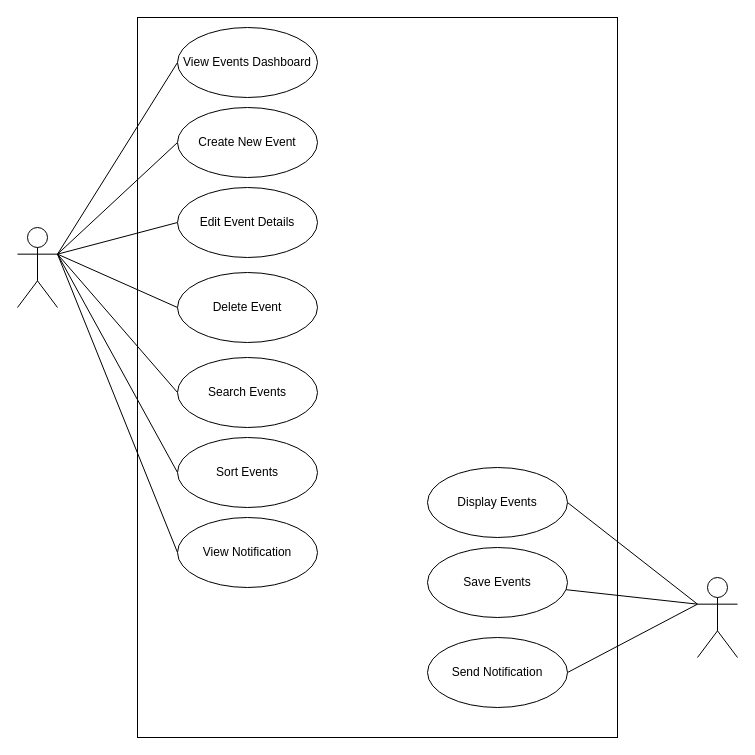
Image size: 755x755. Some labels were removed from this diagram. Each missing label, with the box of its shape:
System: (696, 576, 738, 658)
User: (16, 226, 58, 308)
